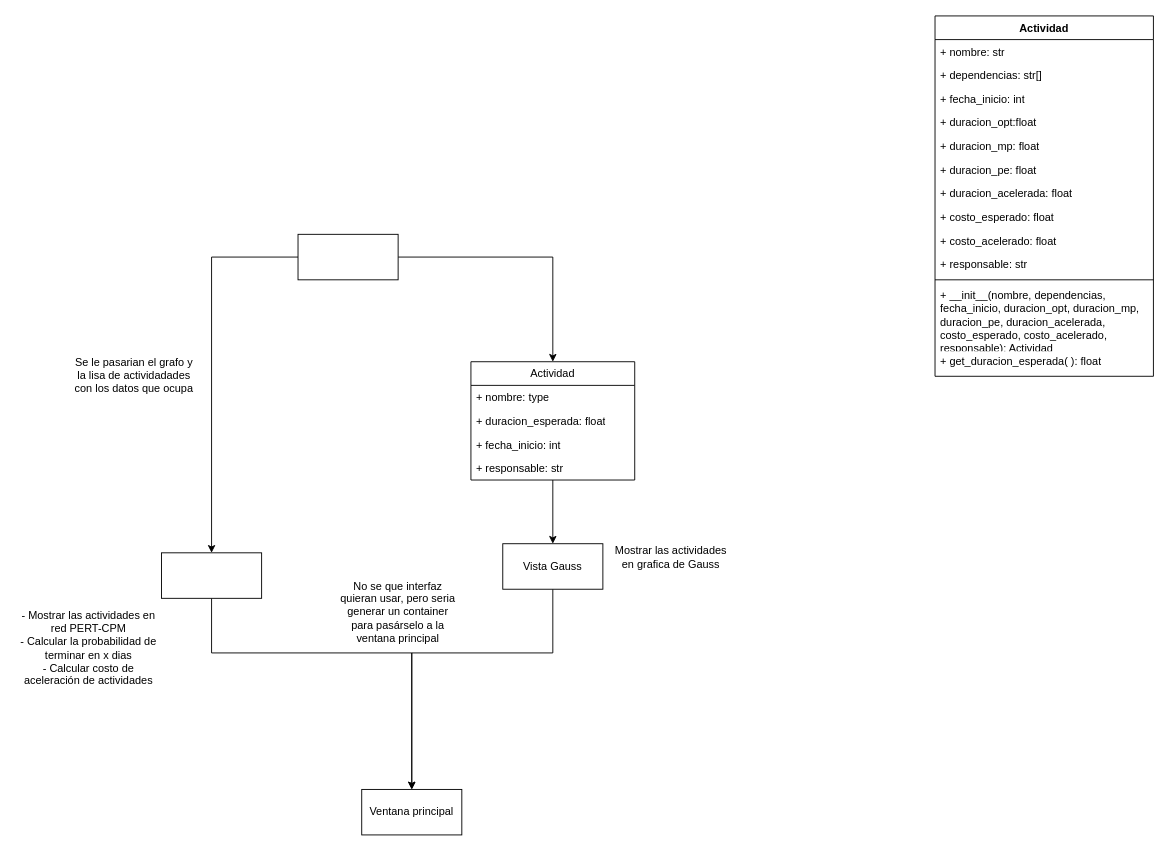
This 1169x851 diagram has some shape labels left out. The centre of each missing label's shape, as x and y in pixels:
"Backend" goes at (x=347, y=256).
"Vista PERT-CPM" goes at (x=211, y=575).
